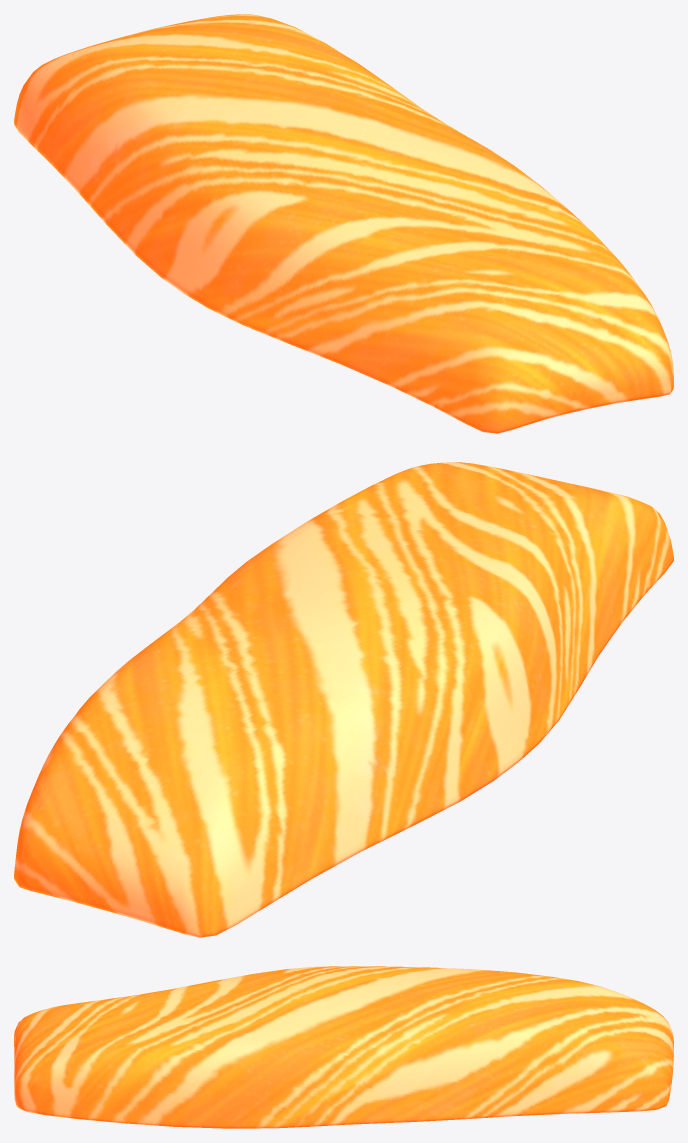
The model's file is somoneti.fbx.
The picture shows the model from 3 angles, top to bottom: view 1: azimuth 30°, elevation 25°; view 2: azimuth 150°, elevation 25°; view 3: azimuth 270°, elevation 25°; orthographic projection. The views are drawn at different scales.
Visible parts, largest first — view 1: SOMON; view 2: SOMON; view 3: SOMON.
Part boxes in pixels (x1,y1,x2,y2): SOMON: (14, 14, 673, 433); SOMON: (14, 462, 673, 937); SOMON: (14, 966, 673, 1128).
Size of the model in its own units: 2038 by 792 by 5101.
